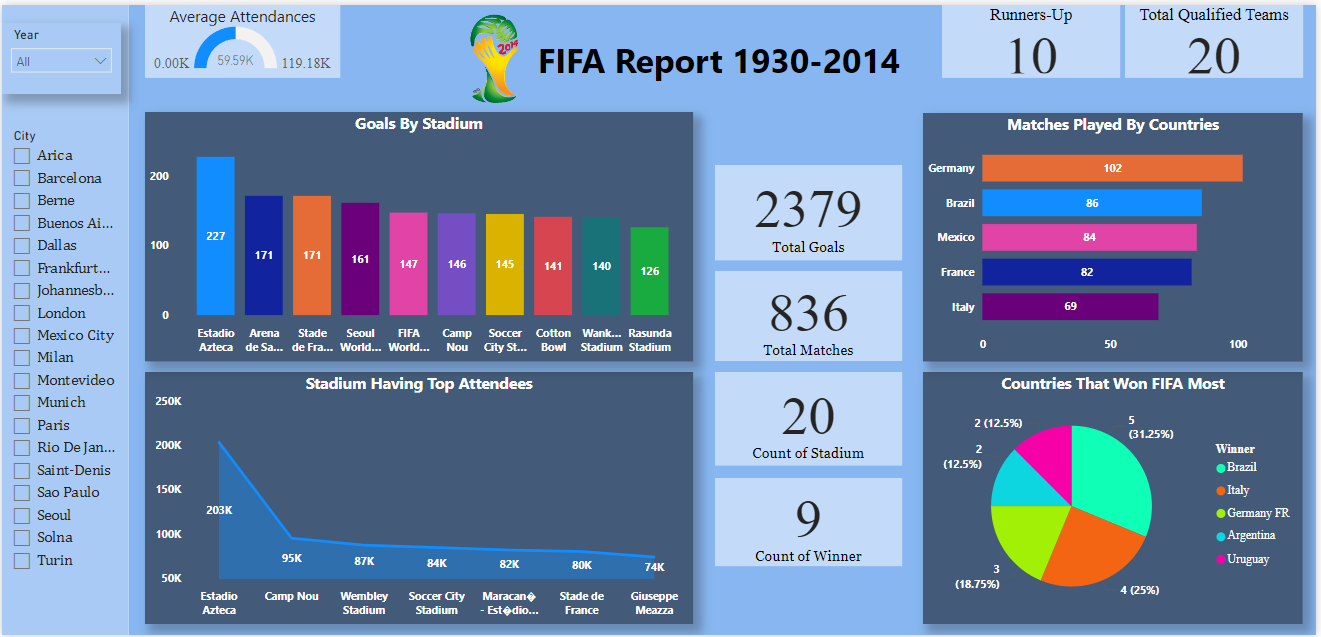

This screenshot's page, from the dashboard's own definition file:
{"tool":"powerbi","page":{"name":"Page 1","canvas":[1460,700],"ordinal":0},"visuals":[{"type":"shape","box":[0,0,140.8,700],"z":0},{"type":"slicer","fields":{"Values":["WorldCupMatches.Year"]},"box":[0,20,132,79],"z":1000},{"type":"slicer","fields":{"Values":["WorldCupMatches.City"]},"box":[0,131.7,131.7,526.7],"z":2000},{"type":"textbox","box":[574.4,30,454.4,60],"z":3000},{"type":"columnChart","title":"Goals By Stadium","fields":{"Category":["WorldCupMatches.Stadium"],"Y":["Sum(WorldCups.GoalsScored)"],"Series":["WorldCupMatches.Stadium"]},"box":[158.9,118.9,608.9,276.7],"z":6000},{"type":"card","fields":{"Values":["Sum(WorldCups.GoalsScored)"]},"box":[792.2,177.8,207.8,105.6],"z":7000},{"type":"card","fields":{"Values":["Sum(WorldCups.MatchesPlayed)"]},"box":[792.2,295.6,207.8,100],"z":8000},{"type":"barChart","title":"Matches Played By Countries","fields":{"Category":["WorldCups.Country"],"Y":["Sum(WorldCups.MatchesPlayed)"],"Series":["WorldCups.Country"]},"box":[1023.3,120,422.2,275.6],"z":9000},{"type":"stackedAreaChart","title":"Stadium Having Top Attendees","fields":{"Category":["WorldCupMatches.Stadium"],"Y":["Sum(WorldCupMatches.Attendance)"]},"box":[159,408,609,280],"z":10000},{"type":"card","fields":{"Values":["CountNonNull(WorldCupMatches.Stadium)"]},"box":[792.2,407.8,207.8,104.4],"z":11000},{"type":"card","fields":{"Values":["Count(WorldCups.Winner)"]},"box":[792.2,525.6,207.8,97.8],"z":12000},{"type":"pieChart","title":"Countries That Won FIFA Most","fields":{"Category":["WorldCups.Winner"],"Y":["CountNonNull(WorldCups.Year)"]},"box":[1023,408,422,280],"z":13000},{"type":"card","title":"Total Qualified Teams ","fields":{"Values":["CountNonNull(WorldCups.QualifiedTeams)"]},"box":[1247.8,0,197.8,81.1],"z":14000},{"type":"gauge","title":"Average Attendances ","fields":{"Y":["Avg(WorldCupMatches.Attendance)"]},"box":[158.9,0,216.7,81.1],"z":15000},{"type":"card","title":"Runners-Up","fields":{"Values":["Count(WorldCups.Runners-Up)"]},"box":[1044.4,0,197.8,81.1],"z":16000},{"type":"image","box":[440,0,215.6,120],"z":16001}]}

Visuals, with their boxes in screenshot pixels (x1, y1, x2, y2), scaled from the page's 1460x700 canvas onto the 1321x637 screenshot:
shape: 0 0 127 636
slicer - WorldCupMatches.Year: 0 18 119 90
slicer - WorldCupMatches.City: 0 120 119 599
textbox: 520 27 931 82
"Goals By Stadium" columnChart: 144 108 695 360
card - Sum(WorldCups.GoalsScored): 717 162 905 258
card - Sum(WorldCups.MatchesPlayed): 717 269 905 360
"Matches Played By Countries" barChart: 926 109 1308 360
"Stadium Having Top Attendees" stackedAreaChart: 144 371 695 626
card - CountNonNull(WorldCupMatches.Stadium): 717 371 905 466
card - Count(WorldCups.Winner): 717 478 905 567
"Countries That Won FIFA Most" pieChart: 926 371 1307 626
"Total Qualified Teams " card: 1129 0 1308 74
"Average Attendances " gauge: 144 0 340 74
"Runners-Up" card: 945 0 1124 74
image: 398 0 593 109
